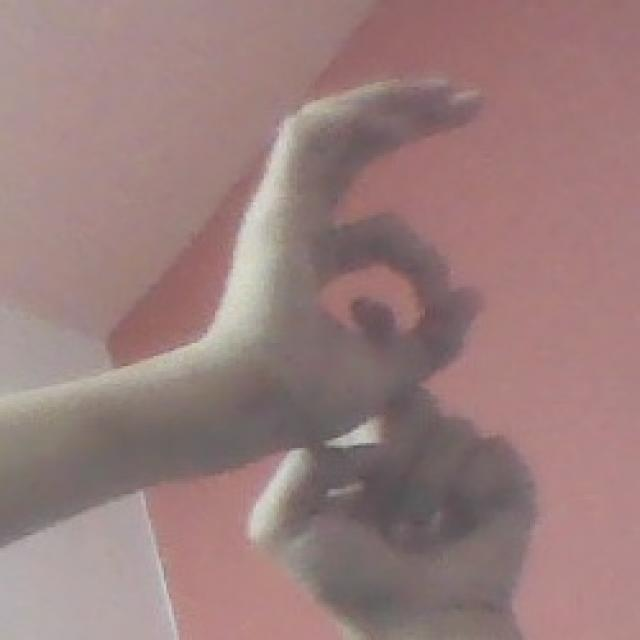Alphabet-Q: (218, 44, 552, 640), (616, 496, 616, 496)
